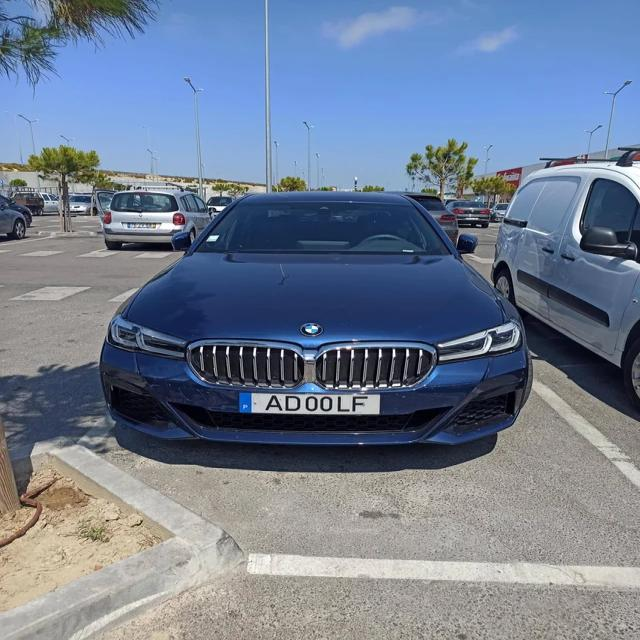portuguese-license-plates: (235, 389, 383, 419)
